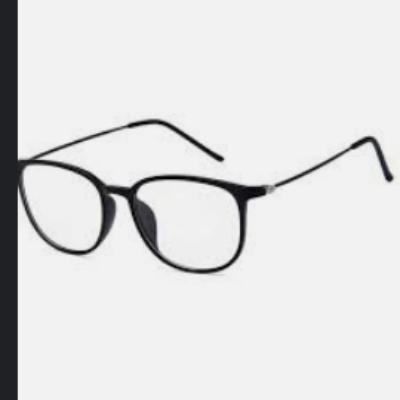glasses: (16, 112, 400, 282)
